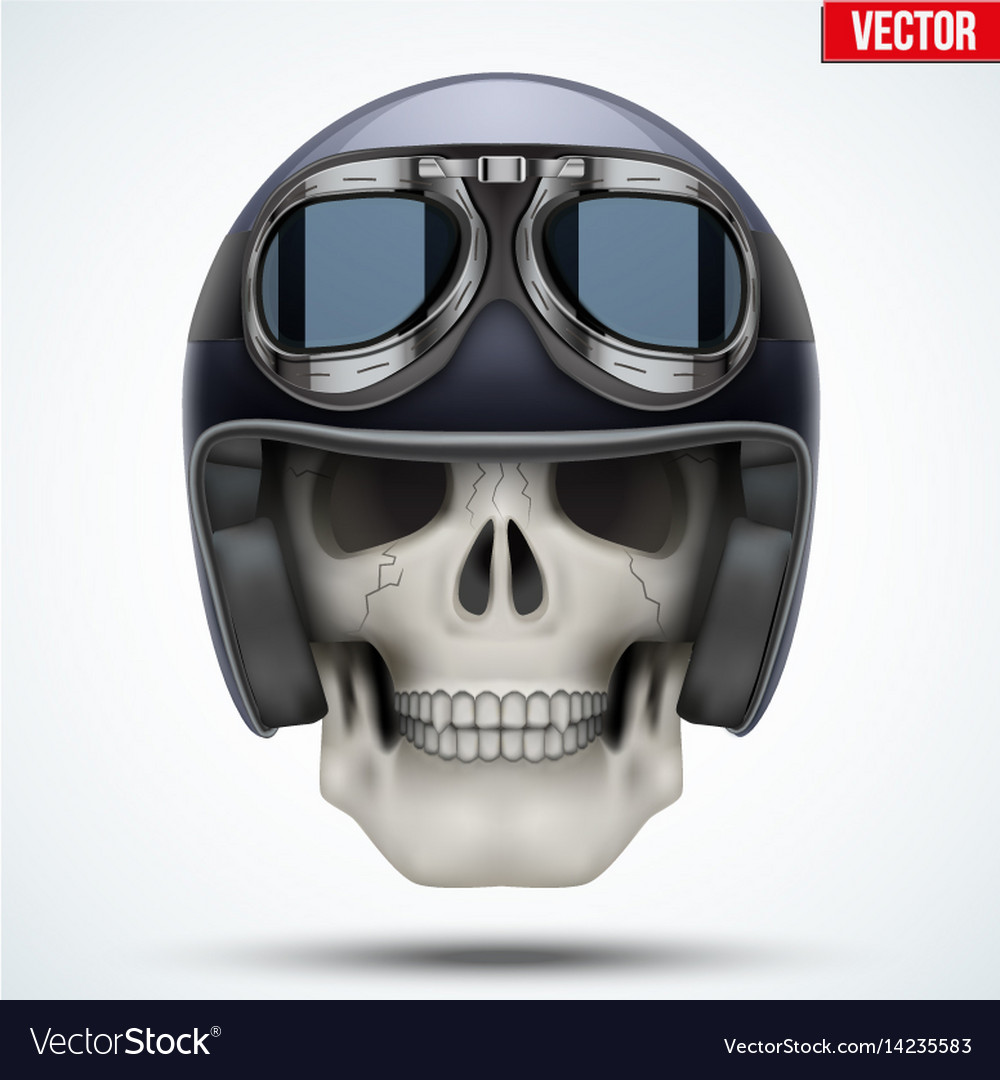with_helmet: (169, 65, 816, 749)
